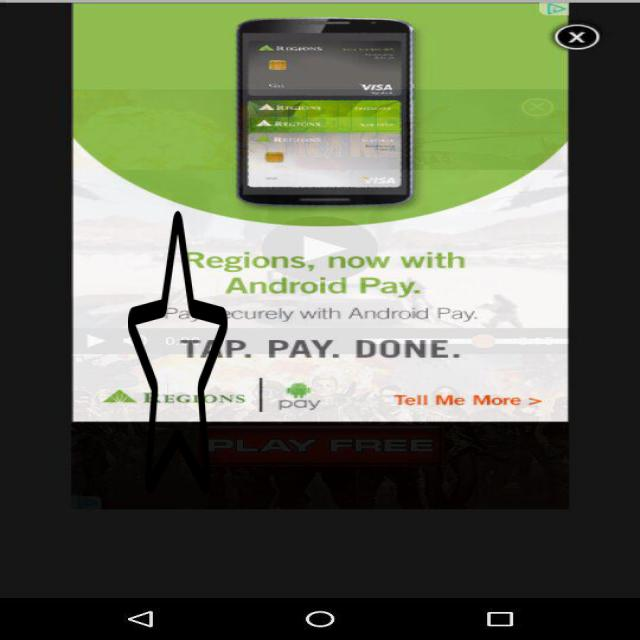forced continuity: (128, 205, 228, 500)
